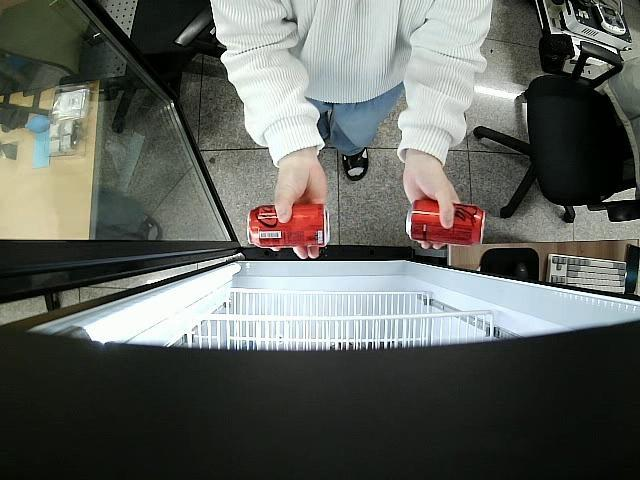11_cocaColaZero: (404, 195, 487, 246), (246, 200, 330, 248)
